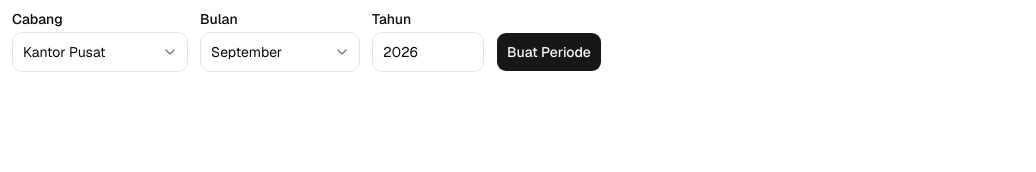
it: CreatePeriodForm › shows the error from a failed create
Click the button "Buat Periode": point(549, 52) [496,32,602,72]
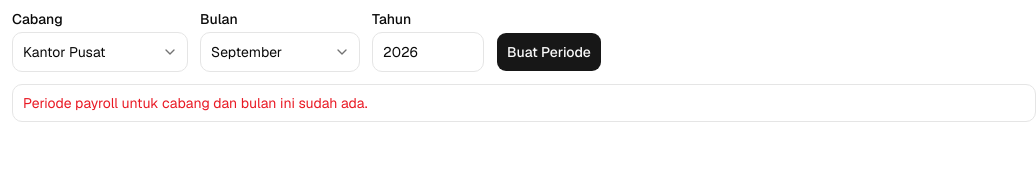
expect the text "Periode payroll untuk cabang dan bulan ini sudah ada." is shown: met, box [23,94,368,112]
